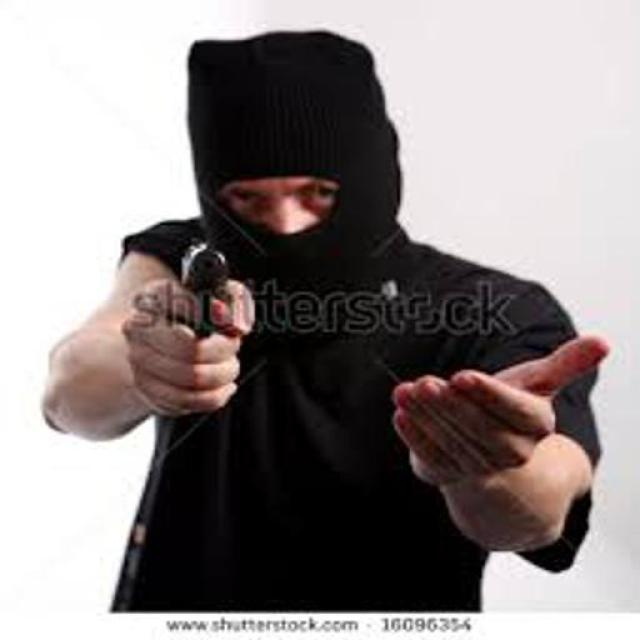pistol: (169, 235, 233, 359)
